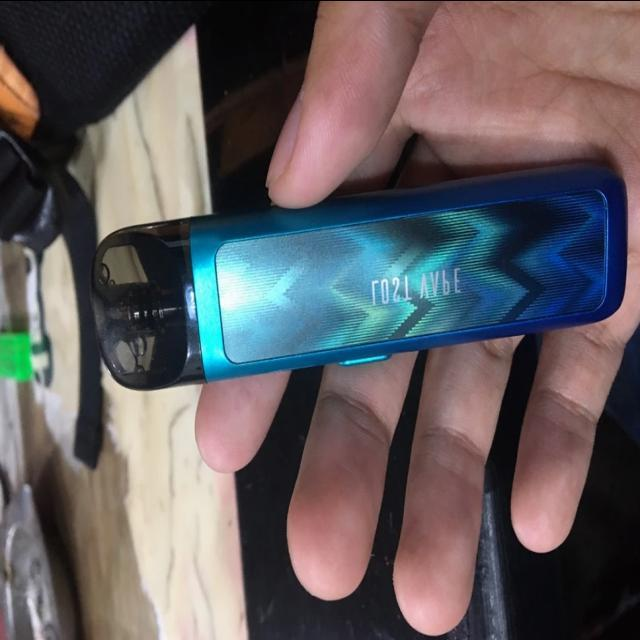Hazard: (89, 160, 630, 389)
